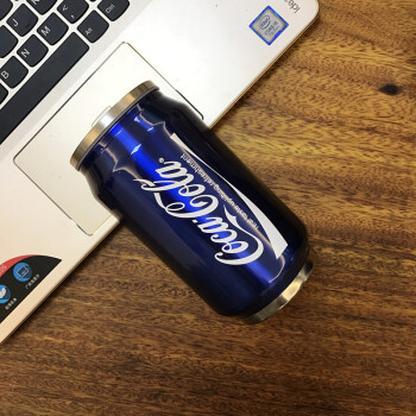can: (64, 80, 317, 326)
